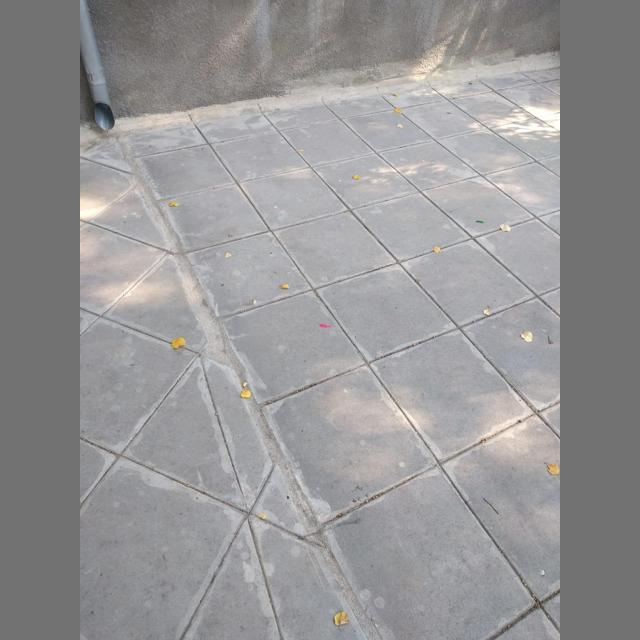litter: (319, 323, 332, 327)
